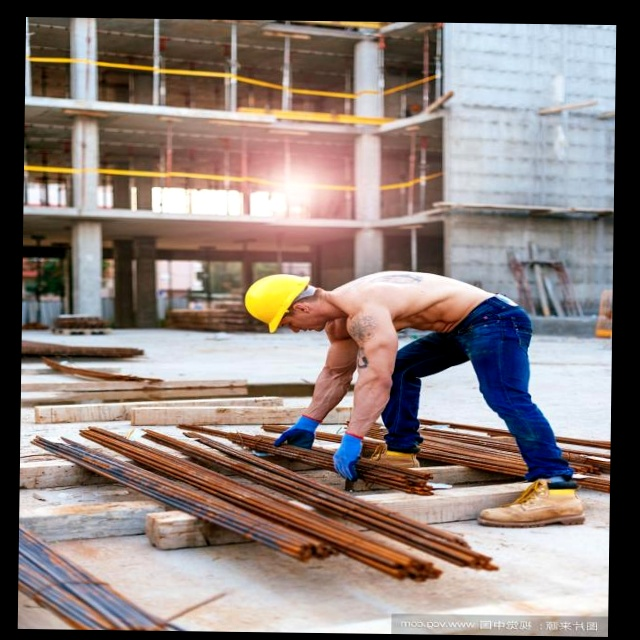Con_Casco: (246, 272, 328, 334)
